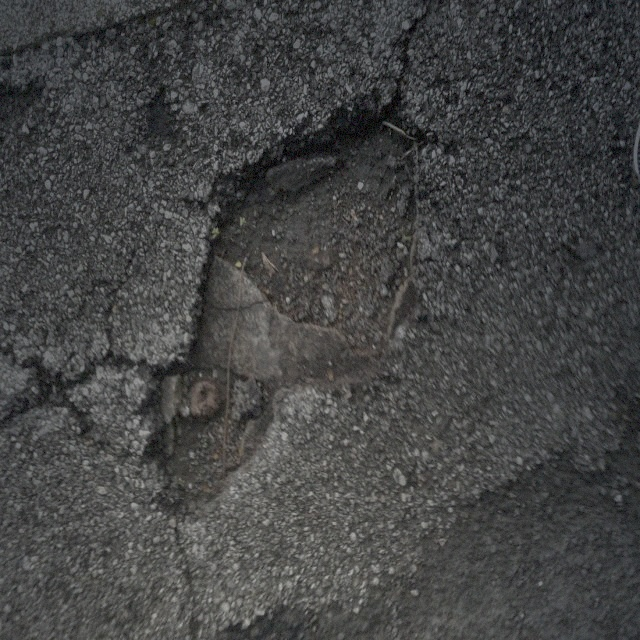pothole: (141, 78, 439, 533)
